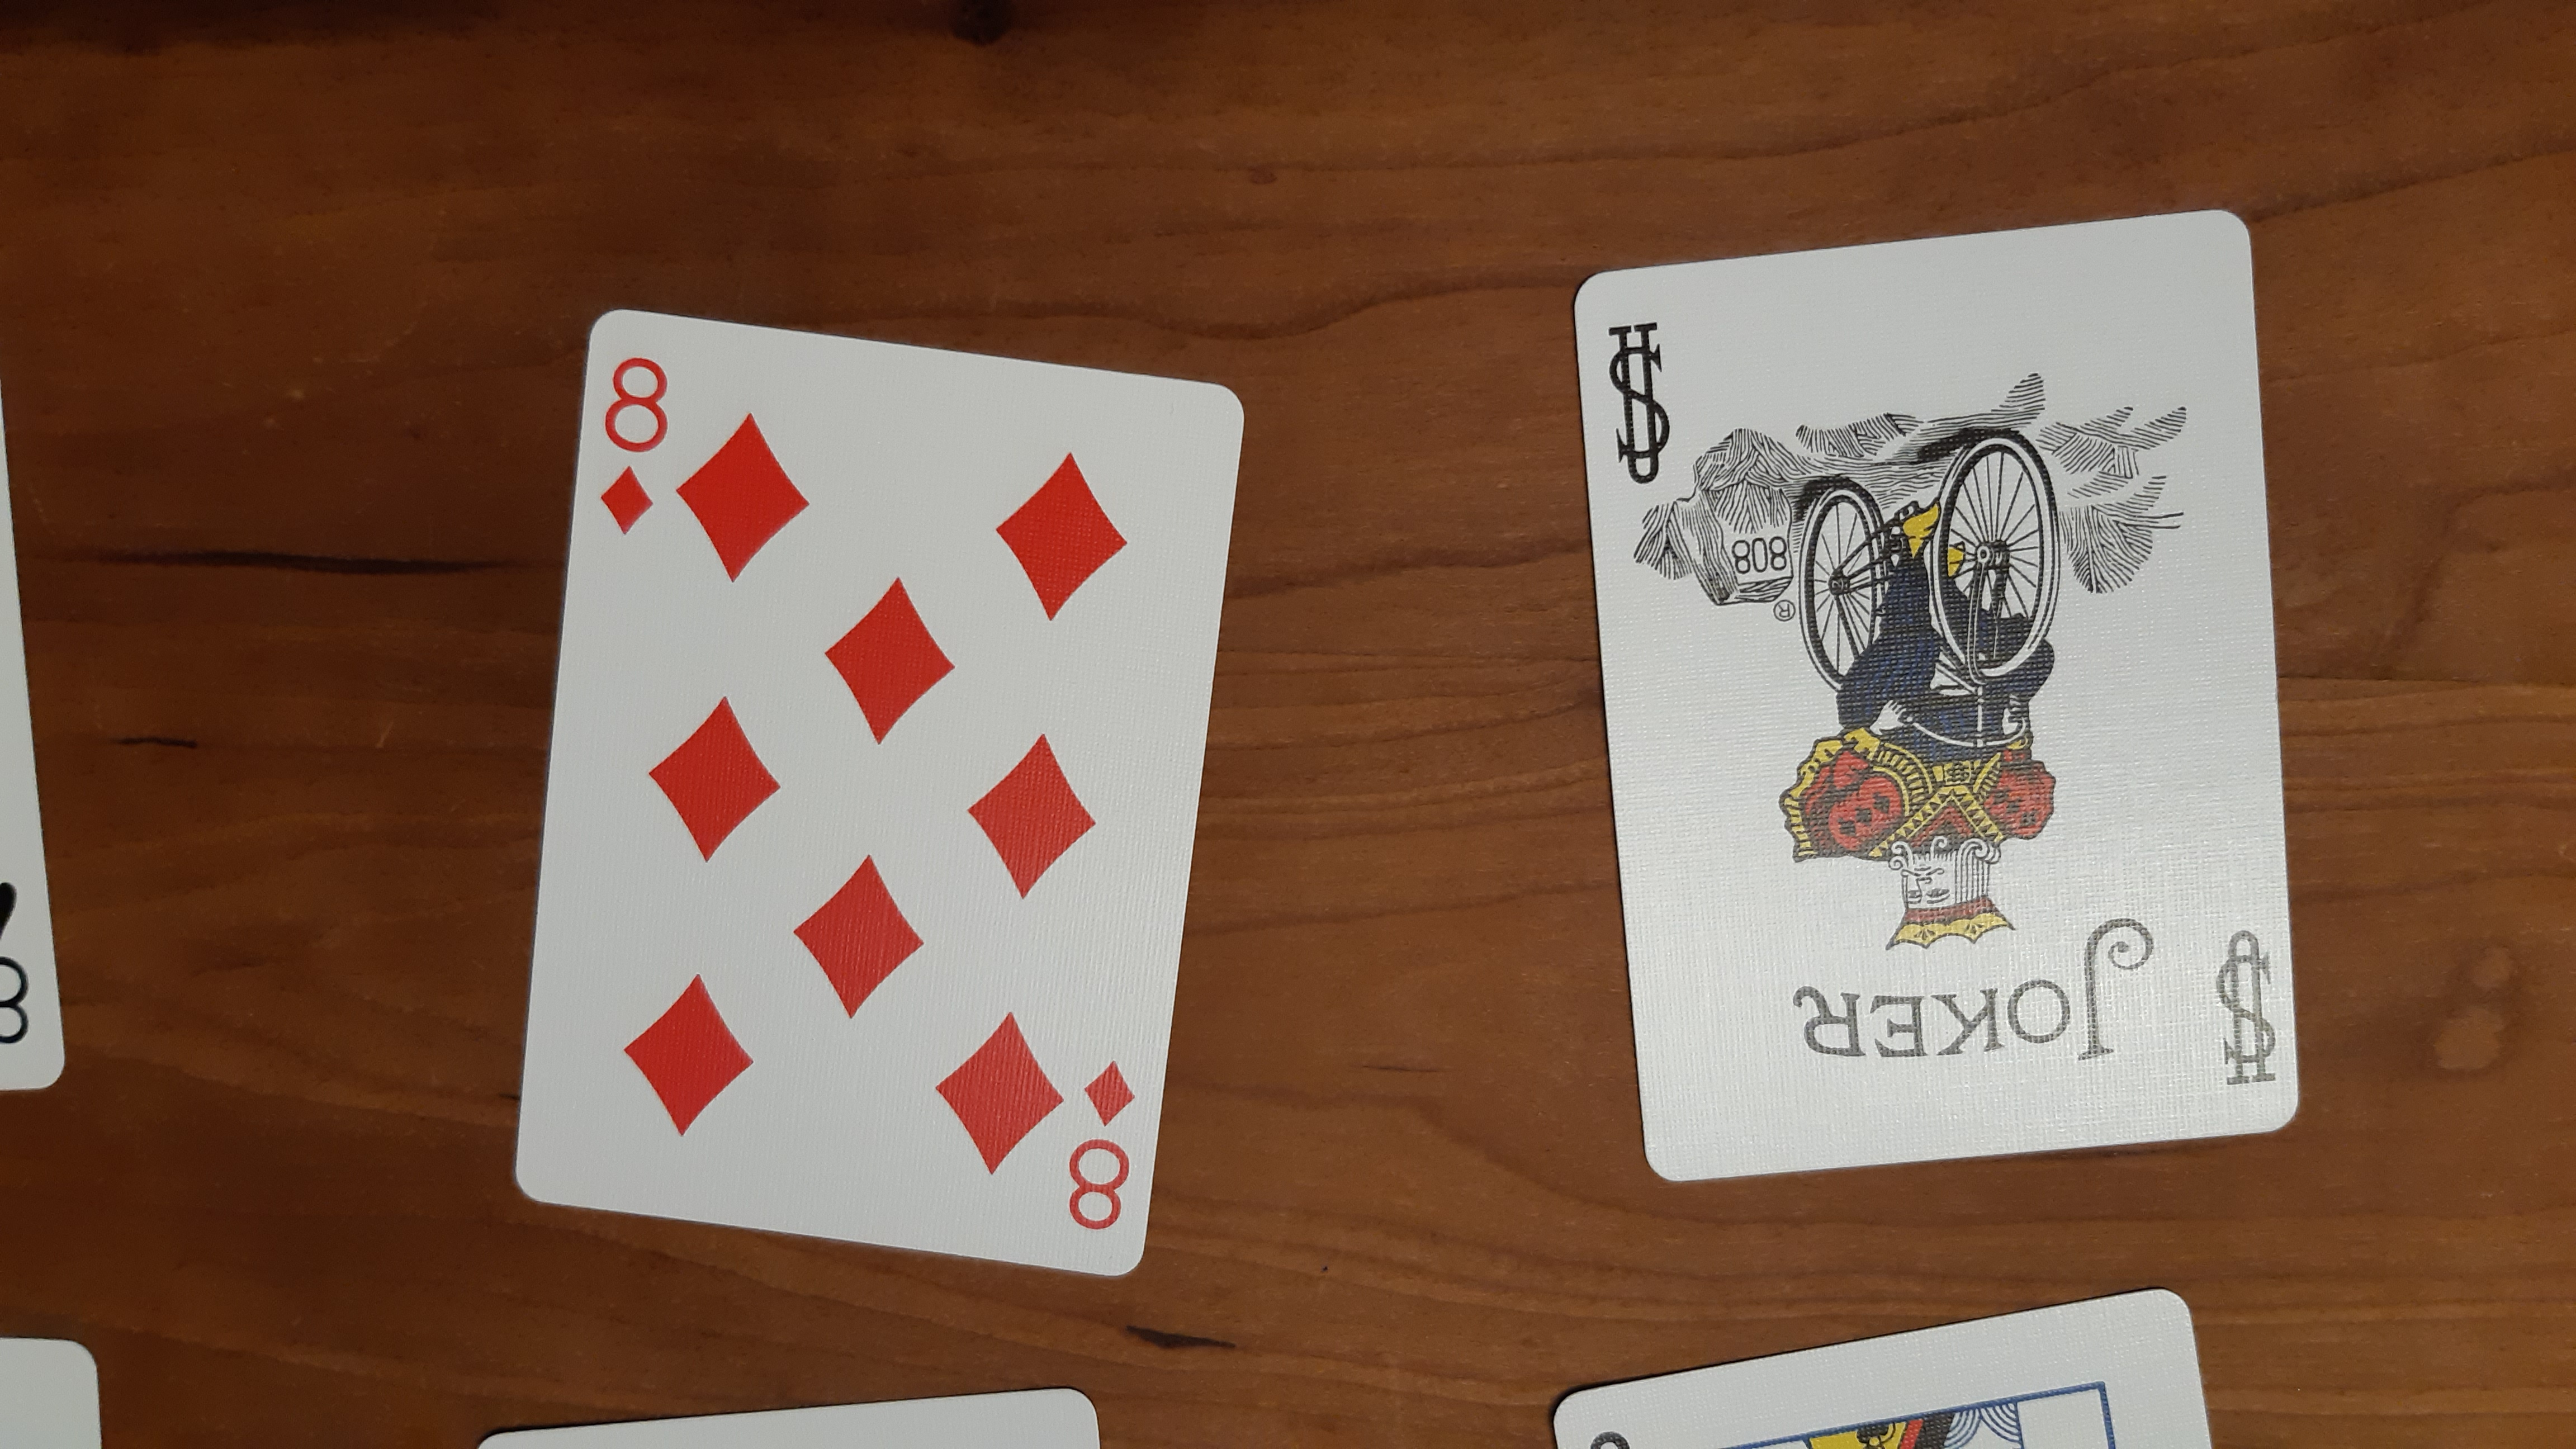Joker: (1766, 911, 2166, 1072)
Red_Diamond_8: (584, 354, 669, 536), (1067, 1058, 1146, 1230)
